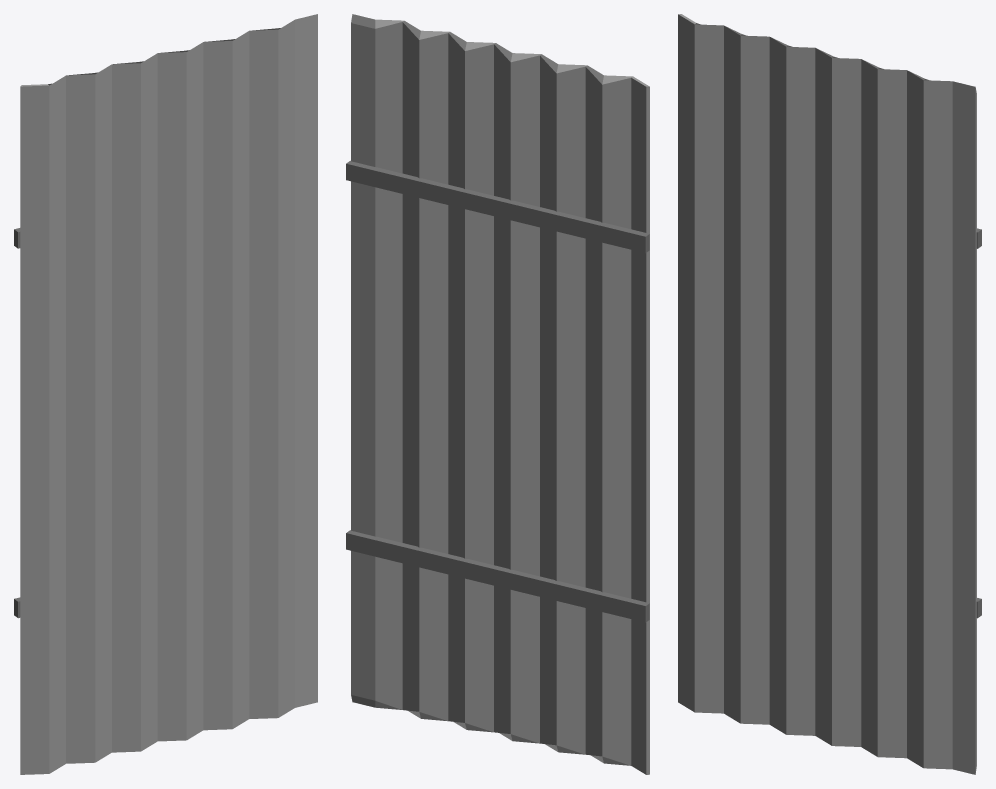
The model's file is SheetMetalWall.fbx.
3 views of the same model, side by side, from view 1: azimuth 30°, elevation 25°; view 2: azimuth 150°, elevation 25°; view 3: azimuth 330°, elevation 25° (orthographic).
Visible parts, largest first — view 1: sheet metal wall; view 2: sheet metal wall; view 3: sheet metal wall.
Boxes of the visible parts, left/top/right/bottom form: sheet metal wall: left=14, top=14, right=317, bottom=774; sheet metal wall: left=346, top=14, right=649, bottom=774; sheet metal wall: left=678, top=14, right=981, bottom=774.
Bounding box in the file's own units: 440 × 965 × 28.94.
